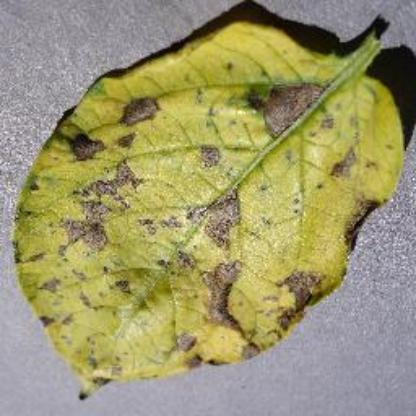Early-Blight: (12, 8, 404, 400)
